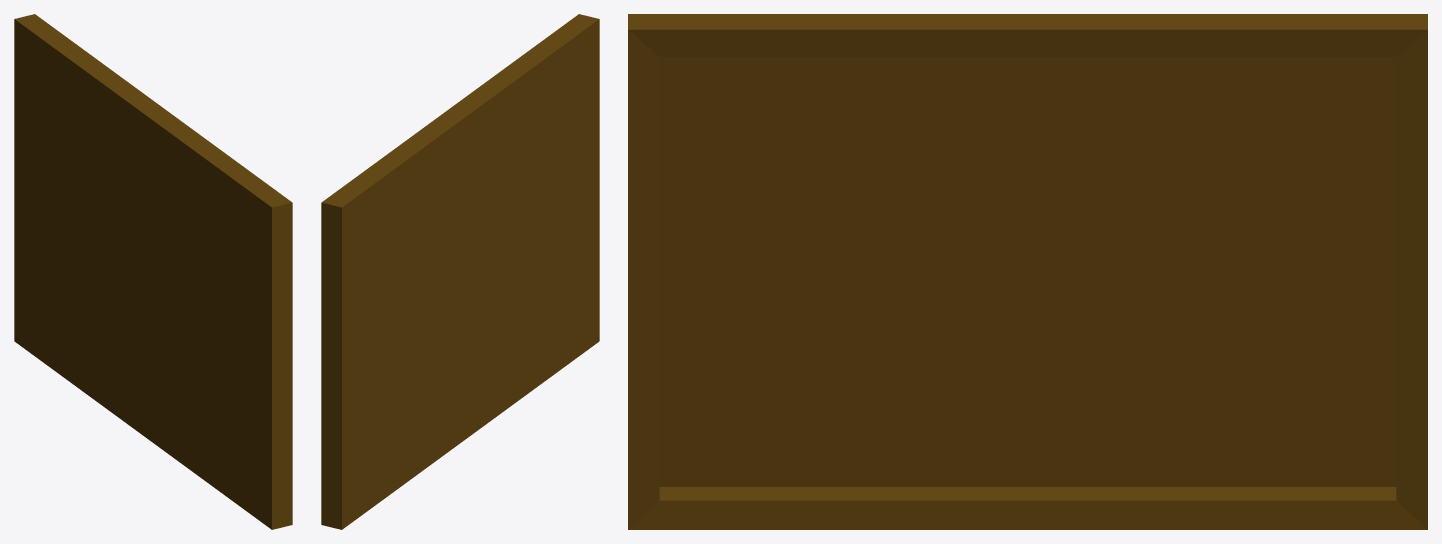
The model's file is pictureframe02.obj.
3 views of the same model, side by side, from view 1: azimuth 30°, elevation 25°; view 2: azimuth 150°, elevation 25°; view 3: azimuth 270°, elevation 25° (orthographic). The views are drawn at different scales.
Parts seen in each view (by area): view 1: Cube_Cube.001; view 2: Cube_Cube.001; view 3: Cube_Cube.001.
Boxes of the visible parts, x1,y1,x2,y2 form: Cube_Cube.001: (14,14,292,529); Cube_Cube.001: (321,14,599,529); Cube_Cube.001: (628,14,1427,529).
Bounding box in the file's own units: 0.02 × 0.3 × 0.4345.
